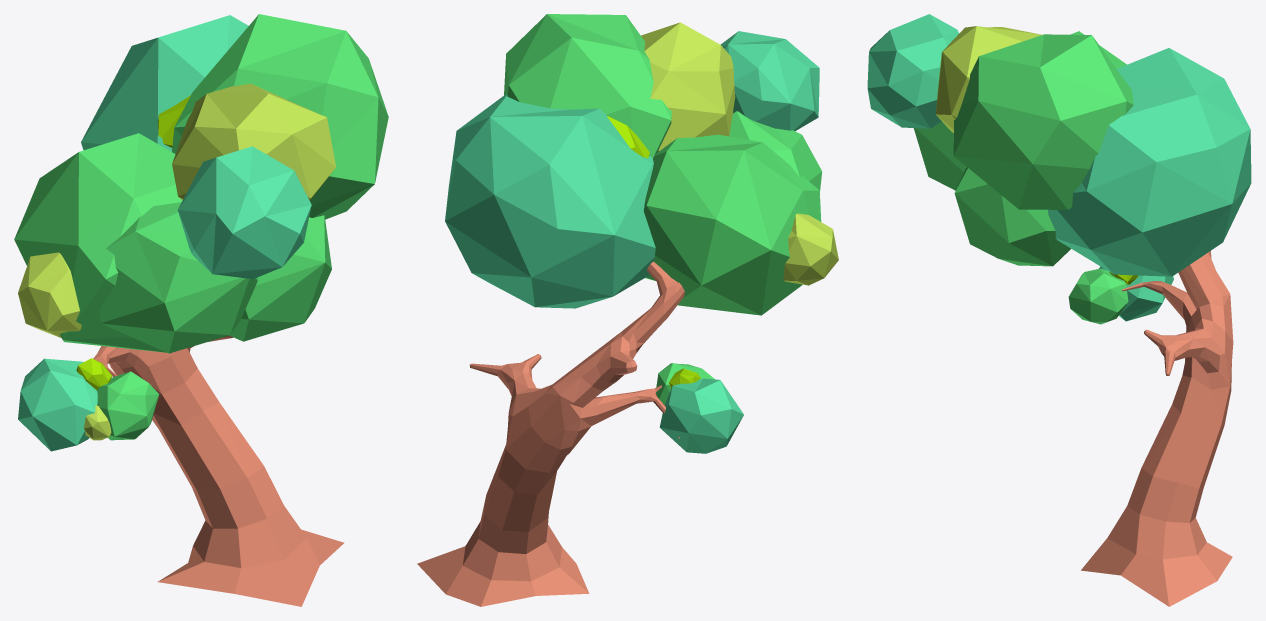
The model's file is lowPolyTree.fbx.
The picture shows the model from 3 angles, left to right: view 1: azimuth 30°, elevation 25°; view 2: azimuth 150°, elevation 25°; view 3: azimuth 270°, elevation 25°; orthographic projection. The views are drawn at different scales.
Parts seen in each view (by area): view 1: Cube.003, Icosphere.026, Icosphere.033, Icosphere.034, Icosphere.036, Icosphere.027, Icosphere.037, Icosphere.038, Icosphere.029, Icosphere.035, Icosphere.030, Icosphere.028 (+2 smaller); view 2: Icosphere.037, Cube.003, Icosphere.033, Icosphere.026, Icosphere.027, Icosphere.036, Icosphere.029, Icosphere.035, Icosphere.034, Icosphere.030, Icosphere.028; view 3: Icosphere.037, Cube.003, Icosphere.026, Icosphere.036, Icosphere.038, Icosphere.027, Icosphere.030, Icosphere.034, Icosphere.029.
Boxes of the visible parts, x1,y1,x2,y2 form: Cube.003: [93, 335, 344, 606]; Icosphere.026: [172, 14, 388, 219]; Icosphere.033: [14, 133, 182, 353]; Icosphere.034: [99, 202, 257, 353]; Icosphere.036: [178, 146, 311, 278]; Icosphere.027: [172, 83, 335, 200]; Icosphere.037: [81, 15, 248, 151]; Icosphere.038: [229, 215, 331, 341]; Icosphere.029: [18, 358, 97, 451]; Icosphere.035: [18, 252, 81, 337]; Icosphere.030: [97, 371, 159, 440]; Icosphere.028: [158, 95, 190, 147]; Icosphere.037: [445, 94, 655, 308]; Cube.003: [417, 261, 684, 606]; Icosphere.033: [643, 134, 821, 315]; Icosphere.026: [504, 14, 671, 158]; Icosphere.027: [641, 22, 735, 151]; Icosphere.036: [720, 31, 819, 130]; Icosphere.029: [659, 378, 743, 453]; Icosphere.035: [783, 213, 838, 285]; Icosphere.034: [729, 111, 822, 191]; Icosphere.030: [656, 363, 714, 404]; Icosphere.028: [607, 116, 649, 158]; Icosphere.037: [1047, 48, 1251, 276]; Cube.003: [1081, 251, 1233, 606]; Icosphere.026: [953, 34, 1133, 209]; Icosphere.036: [867, 14, 958, 128]; Icosphere.038: [954, 167, 1070, 266]; Icosphere.027: [936, 26, 1041, 132]; Icosphere.030: [1068, 268, 1128, 324]; Icosphere.034: [913, 121, 966, 190]; Icosphere.029: [1099, 266, 1173, 321].
Size of the model in its own units: 251 by 361 by 242.
